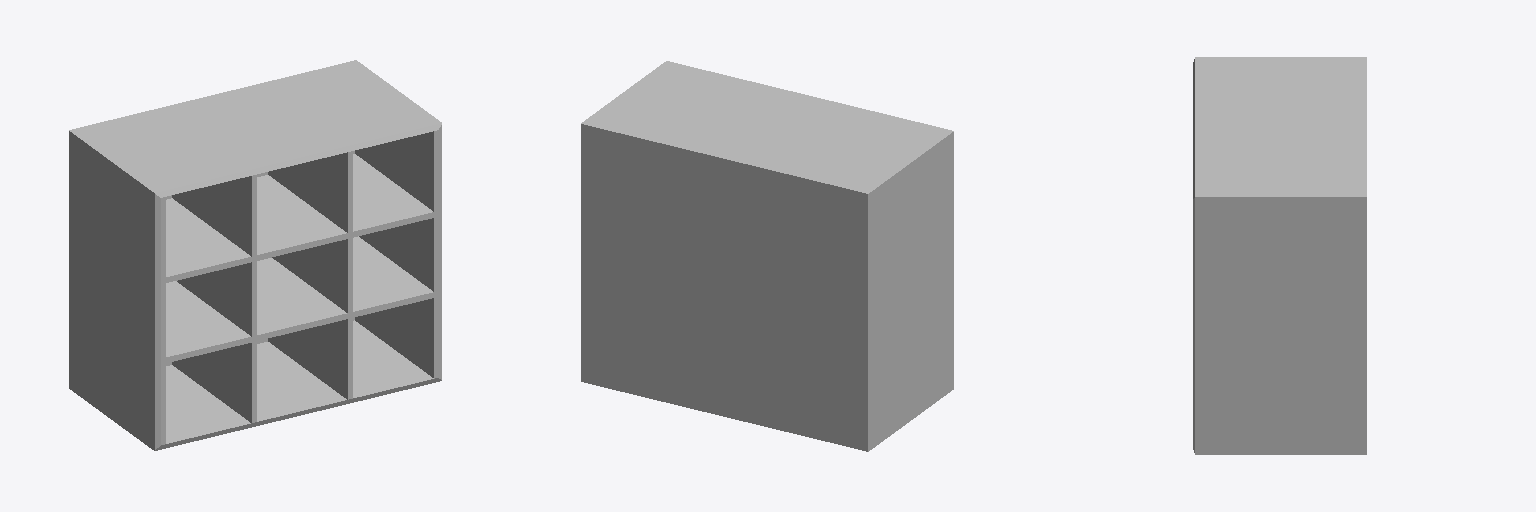
The model's file is storage.obj.
3 views of the same model, side by side, from view 1: azimuth 30°, elevation 25°; view 2: azimuth 150°, elevation 25°; view 3: azimuth 270°, elevation 25° (orthographic).
Size of the model in its own units: 1.75 by 1.5 by 0.9174.